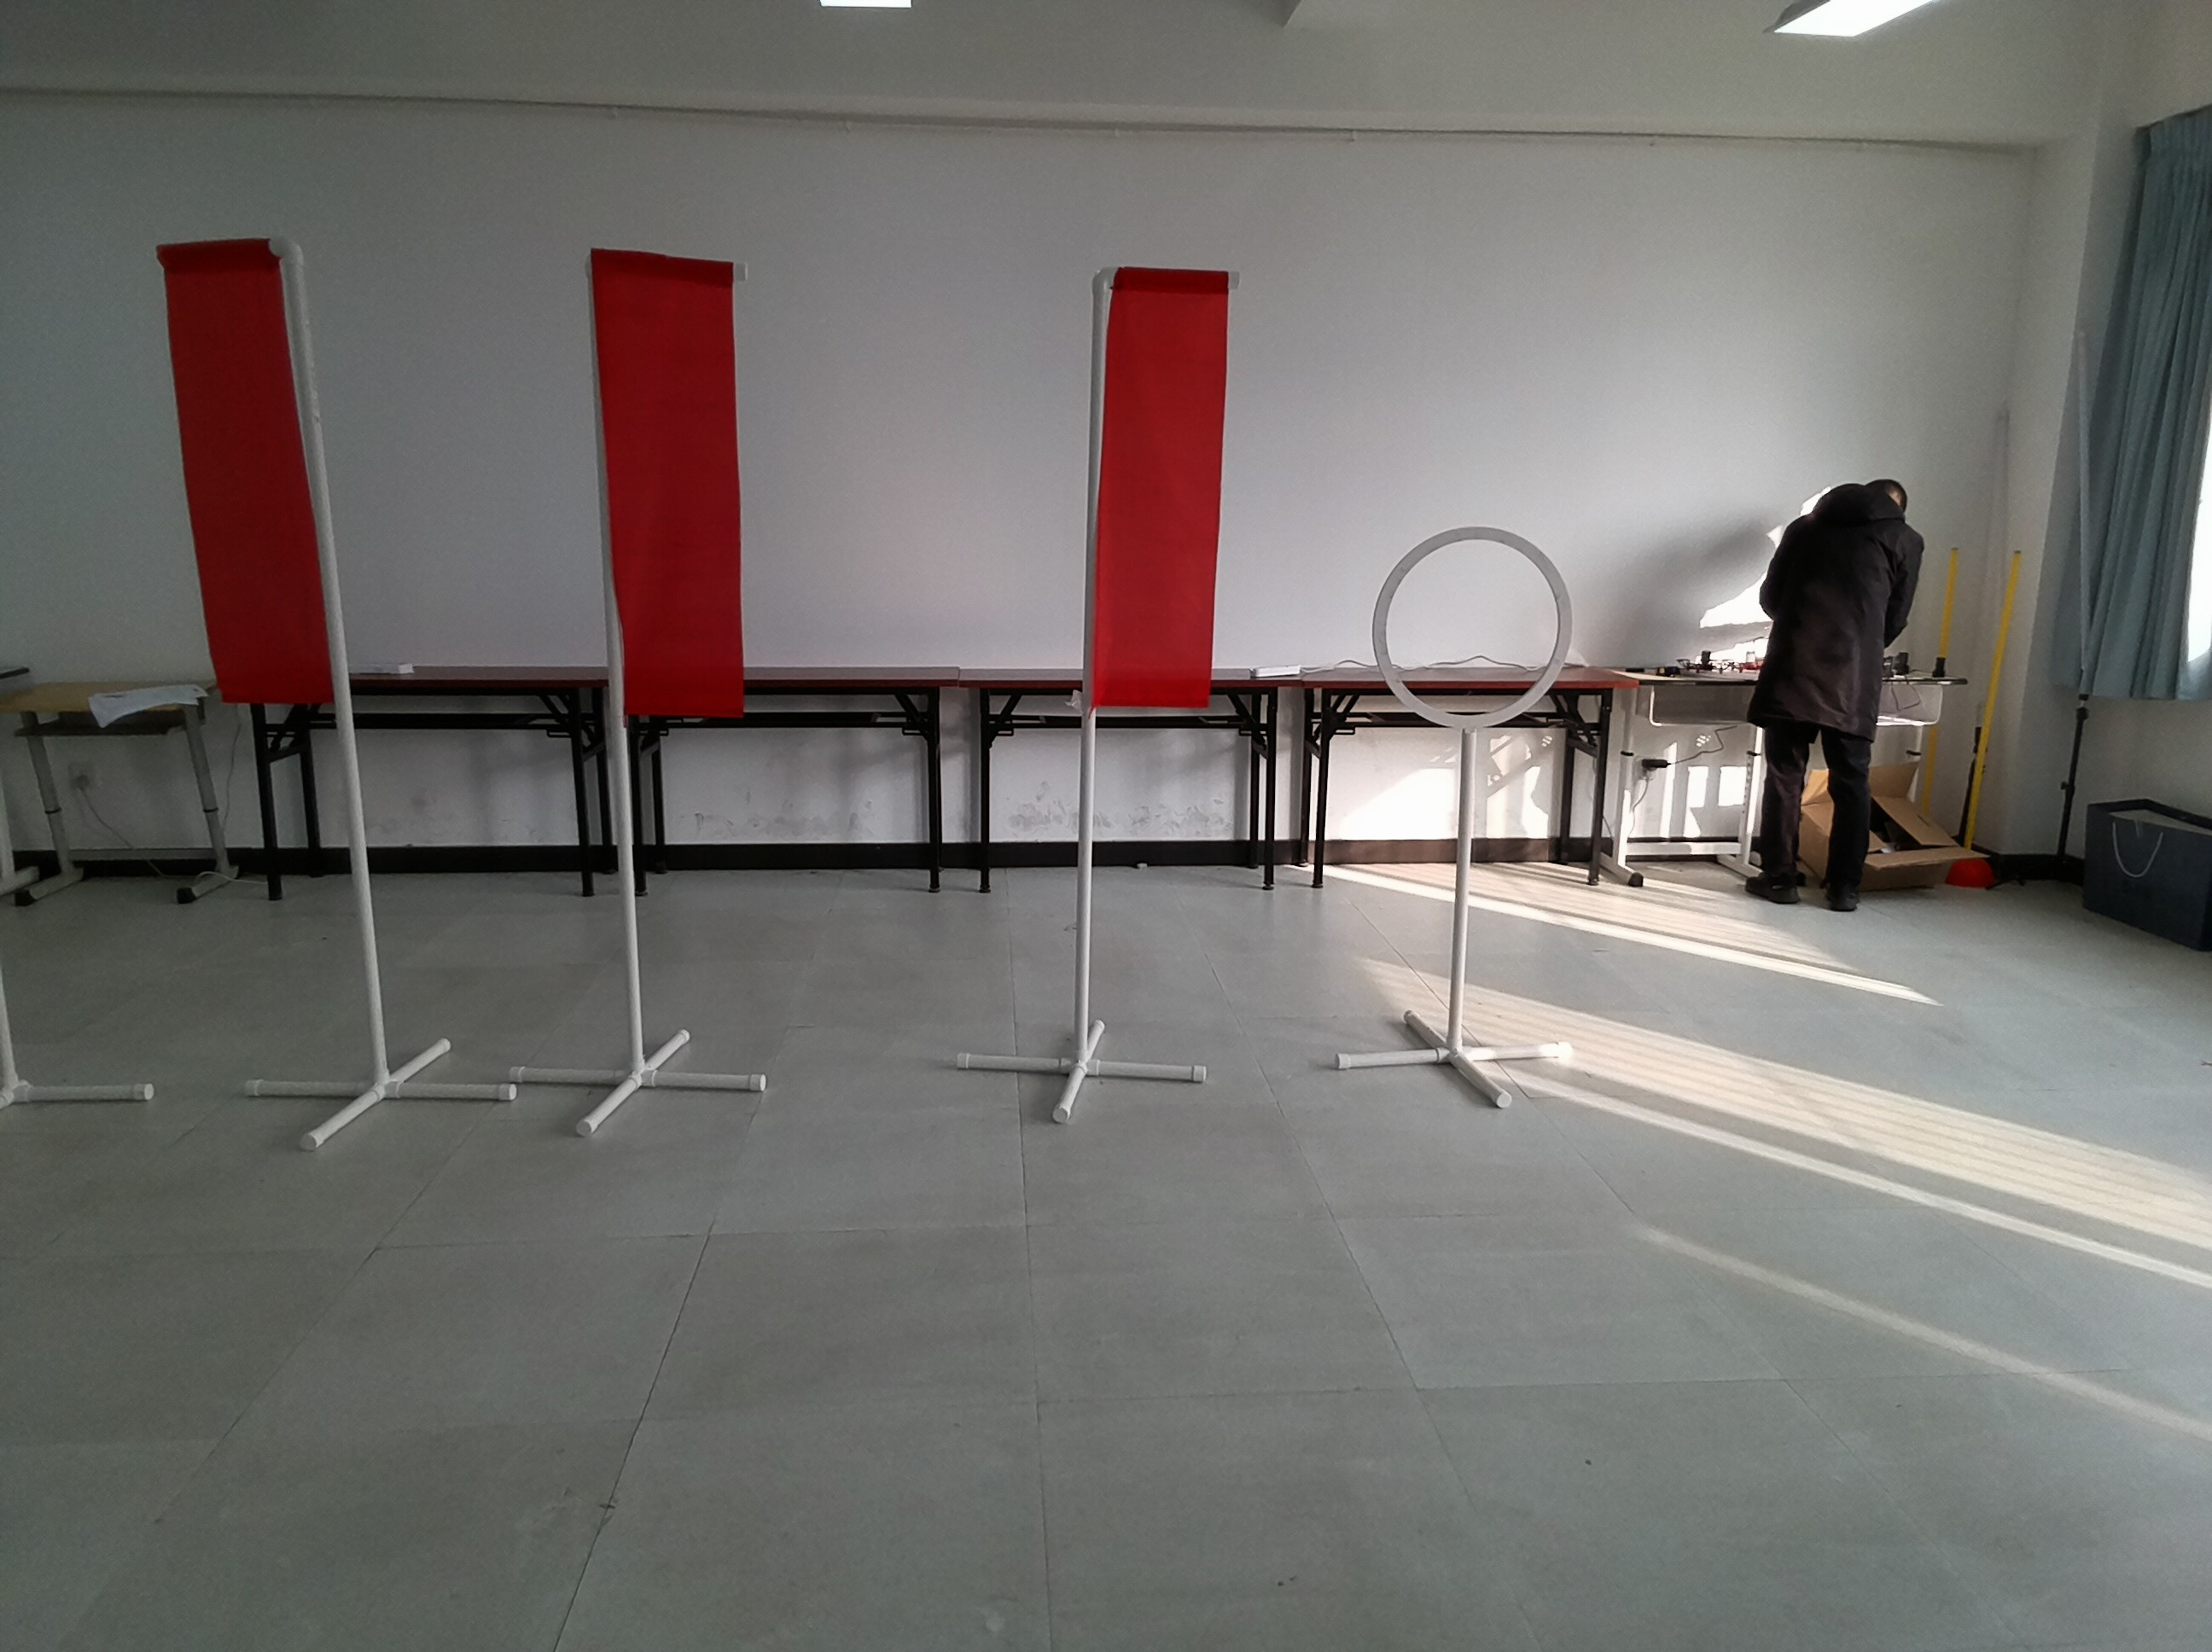qi: (142, 236, 356, 737), (562, 243, 755, 770), (1067, 257, 1227, 779)
quan: (1367, 526, 1577, 767)
